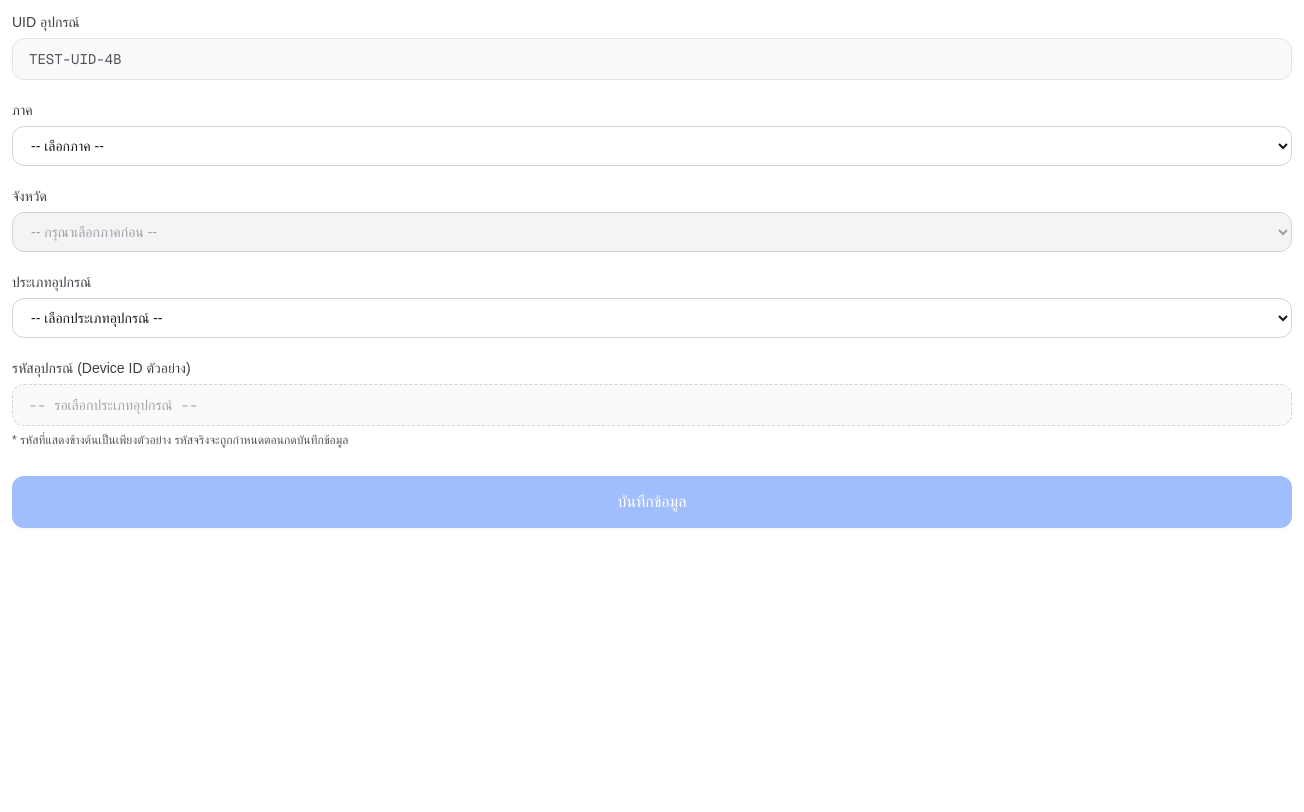
Phase 4B: RegisterForm Unit & Component Tests › 409 UID ซ้ำ → ข้อความถูกต้อง และไม่มีปุ่มลองใหม่ แต่มีปุ่มกลับหน้าแรก
Select "กลาง (22 จังหวัด)" in the dropdown with test id "reg-region" at (652, 146), box [12,126,1292,166]
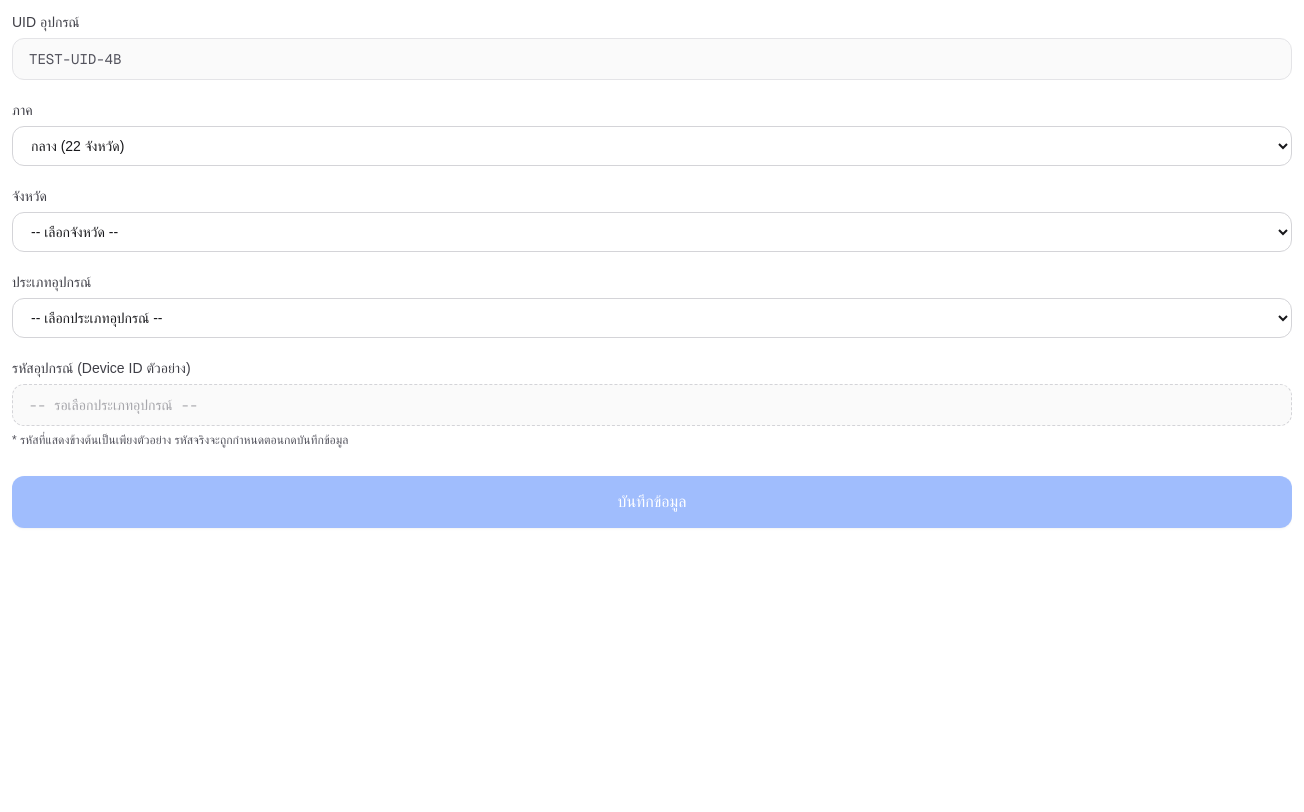
Select "กรุงเทพมหานคร" in the dropdown with test id "reg-province" at (652, 232), box [12,212,1292,252]
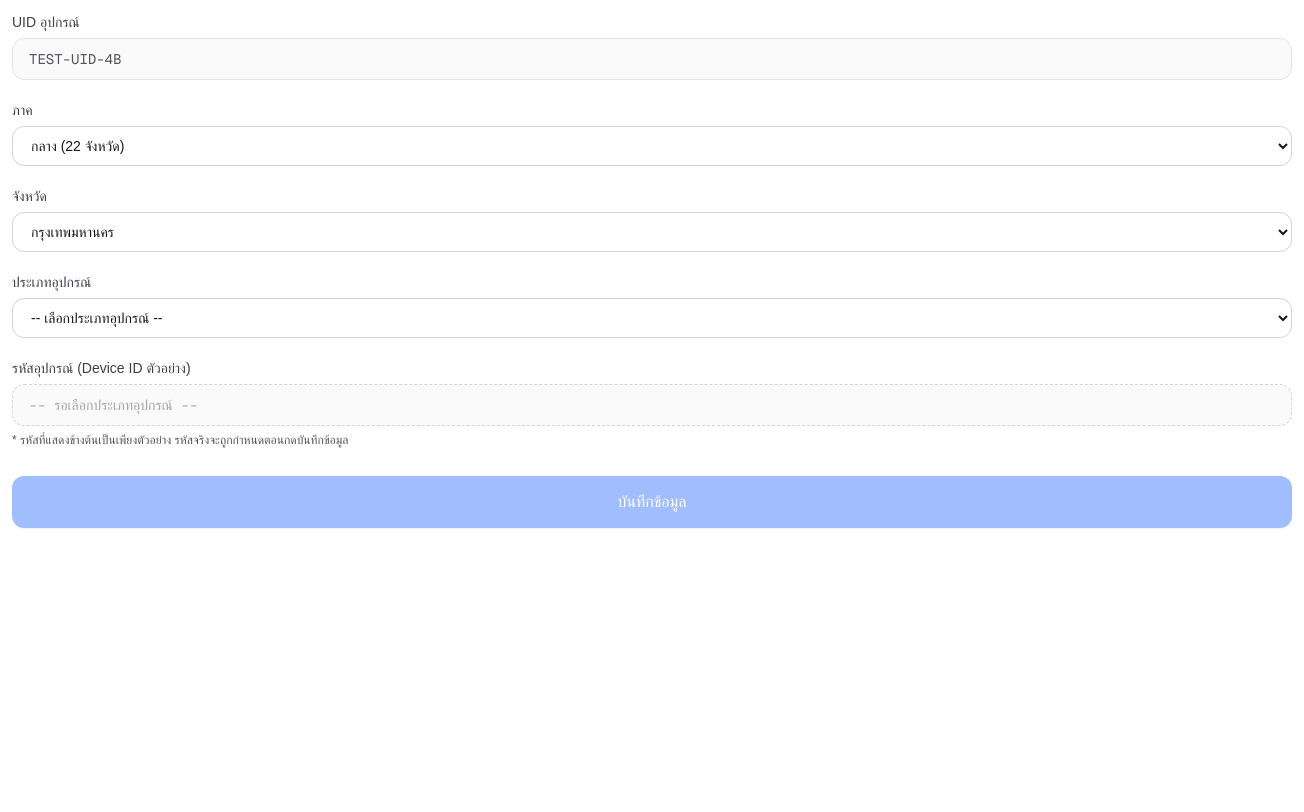
Select "Kiosk (KSK)" in the dropdown with test id "reg-device-type" at (652, 318), box [12,298,1292,338]
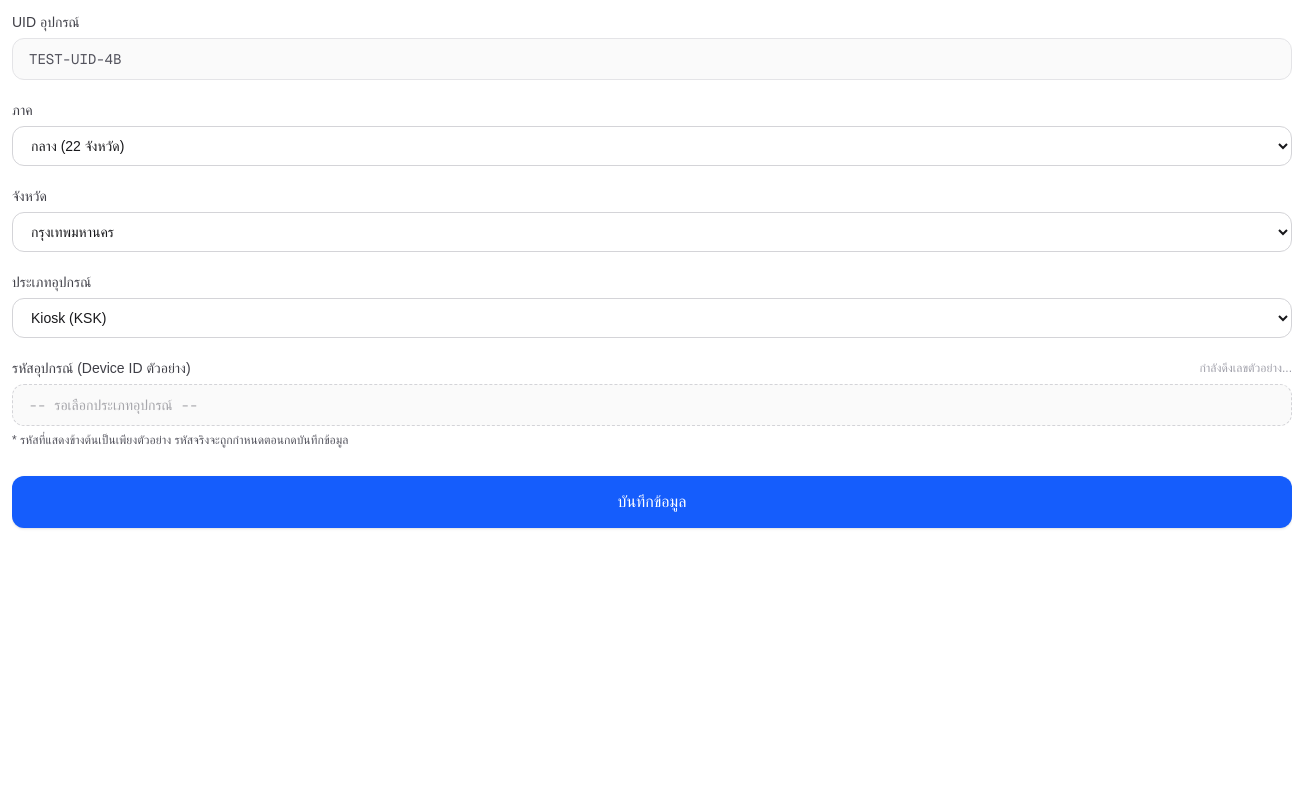
Click the button with test id "btn-submit-registration".
click(652, 502)  # box [12,476,1292,528]
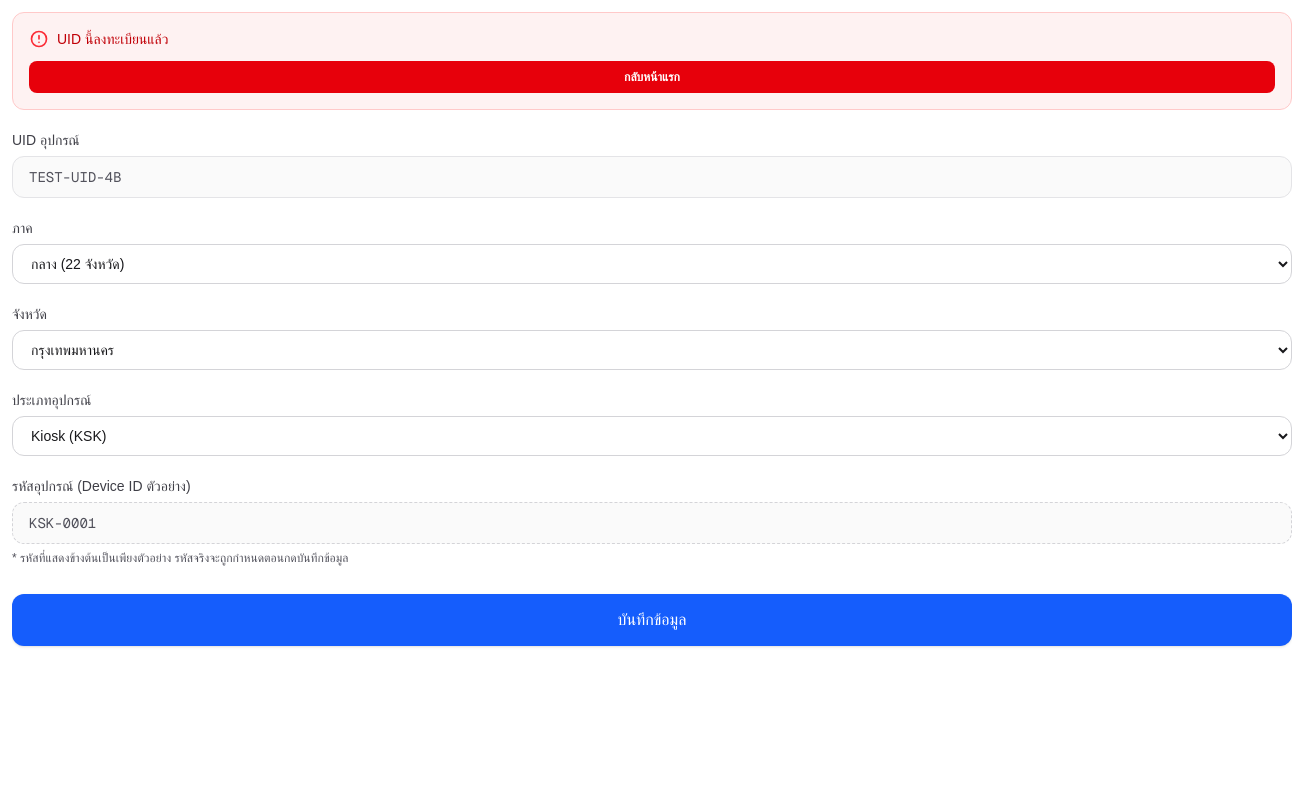
Expected: the message "UID นี้ลงทะเบียนแล้ว กลับหน้าแรก" is shown, [12,12,1292,110]
Expected: the message with test id "register-error-banner" shows "UID นี้ลงทะเบียนแล้ว", [57,31,168,47]
Expected: the button with test id "btn-error-home" is shown, [29,61,1275,93]
